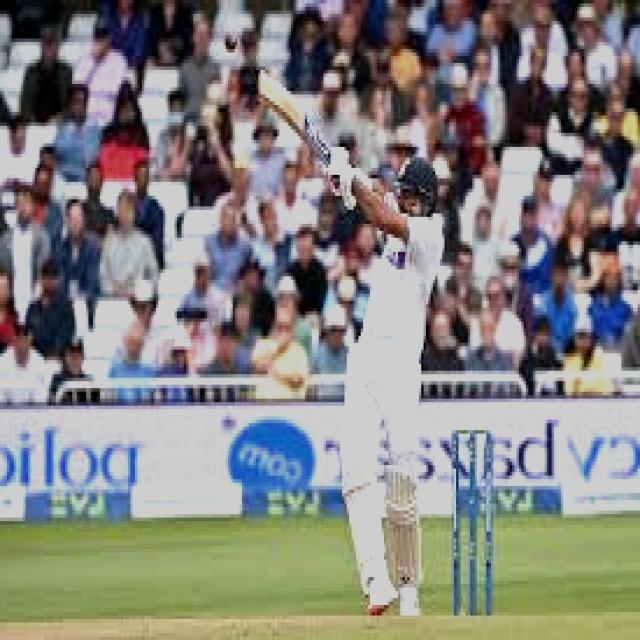toe: (256, 69, 266, 100)
